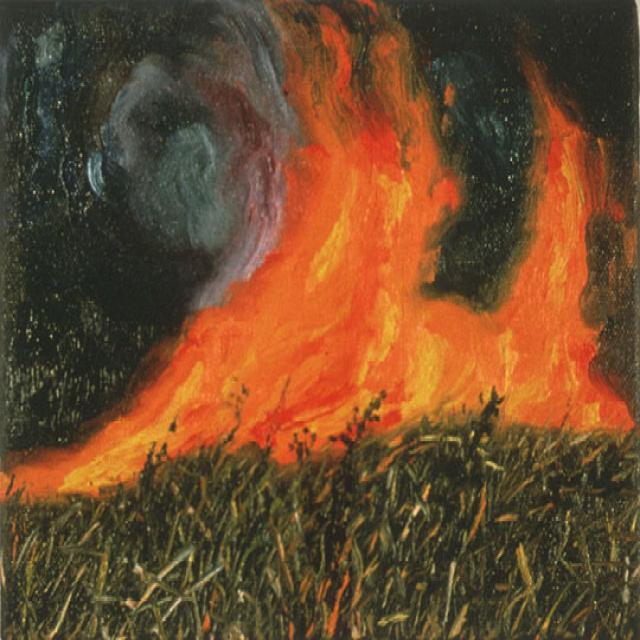Fire: (4, 8, 640, 487)
